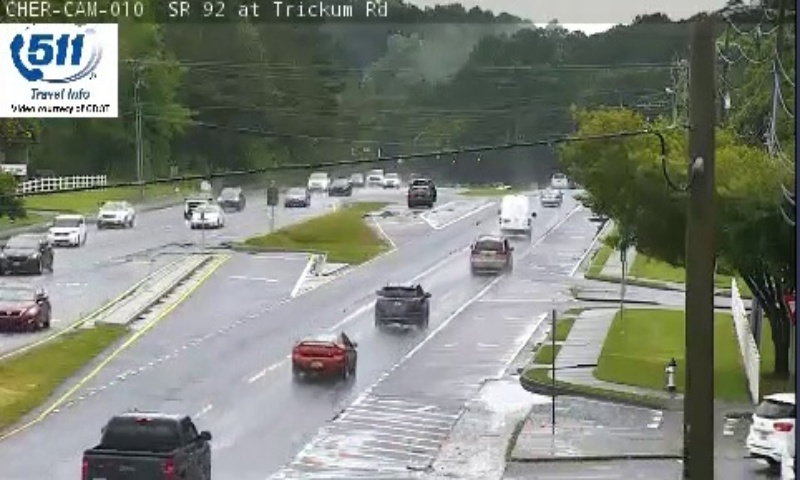car: (82, 413, 210, 480), (292, 330, 356, 373), (374, 284, 429, 324), (469, 236, 511, 270)
van: (499, 193, 531, 238)
